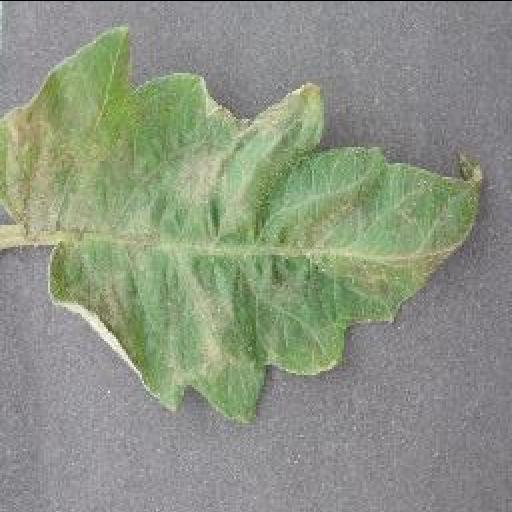disease_tomato: (0, 26, 488, 424)
